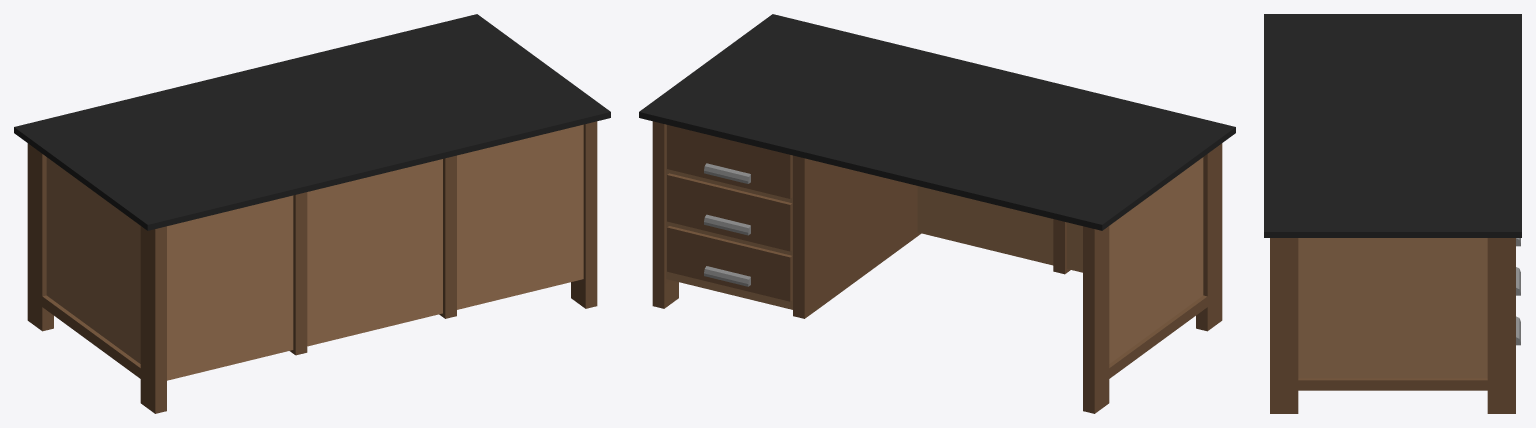
The model's file is Int_Desk01_1.fbx.
3 views of the same model, side by side, from view 1: azimuth 30°, elevation 25°; view 2: azimuth 150°, elevation 25°; view 3: azimuth 270°, elevation 25° (orthographic). The views are drawn at different scales.
Visible parts, largest first — view 1: Int_Desk01_1; view 2: Int_Desk01_1; view 3: Int_Desk01_1.
Boxes of the visible parts, left/top/right/bottom form: Int_Desk01_1: left=14, top=14, right=610, bottom=413; Int_Desk01_1: left=639, top=14, right=1235, bottom=413; Int_Desk01_1: left=1264, top=14, right=1521, bottom=413.
Size of what is drawn, in the model's own units: 200 by 100 by 80.
